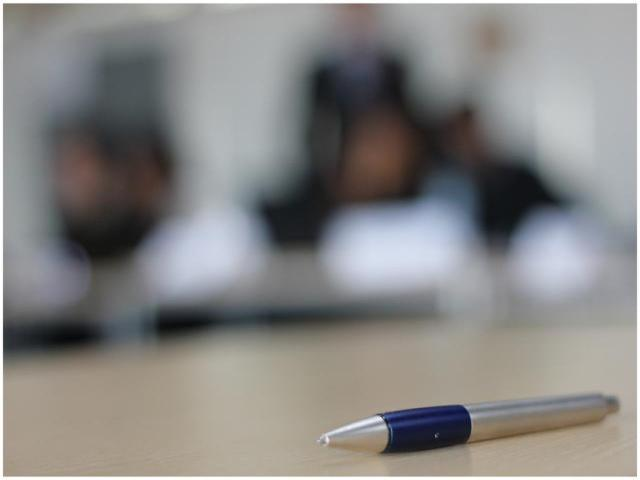PEN: (286, 388, 640, 461)
